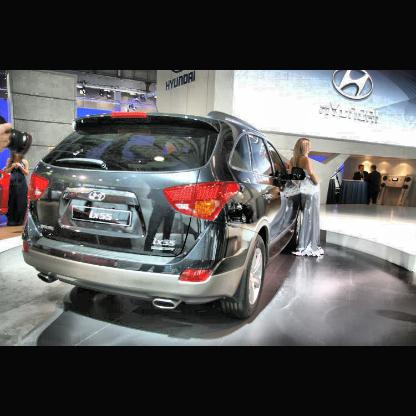Hyundai Veracruz SUV 2012: (24, 109, 308, 323)
